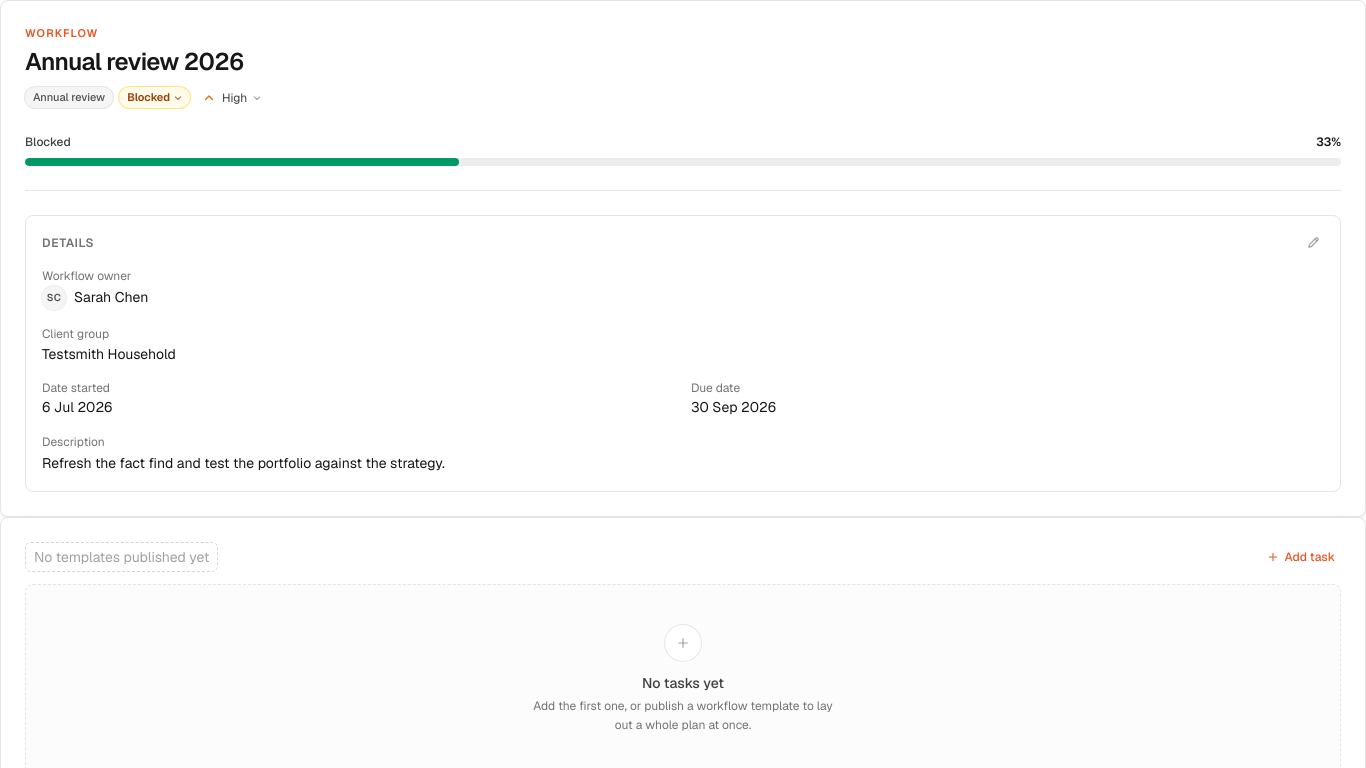
Test: the workflow detail page › the pencil makes owner, due date and description editable — but not the started date
What coordinates should you click on to do the following:
click the button named "Edit details"
I would click on:
 (1313, 242)
Its box is x1=1302 y1=232 x2=1324 y2=254.
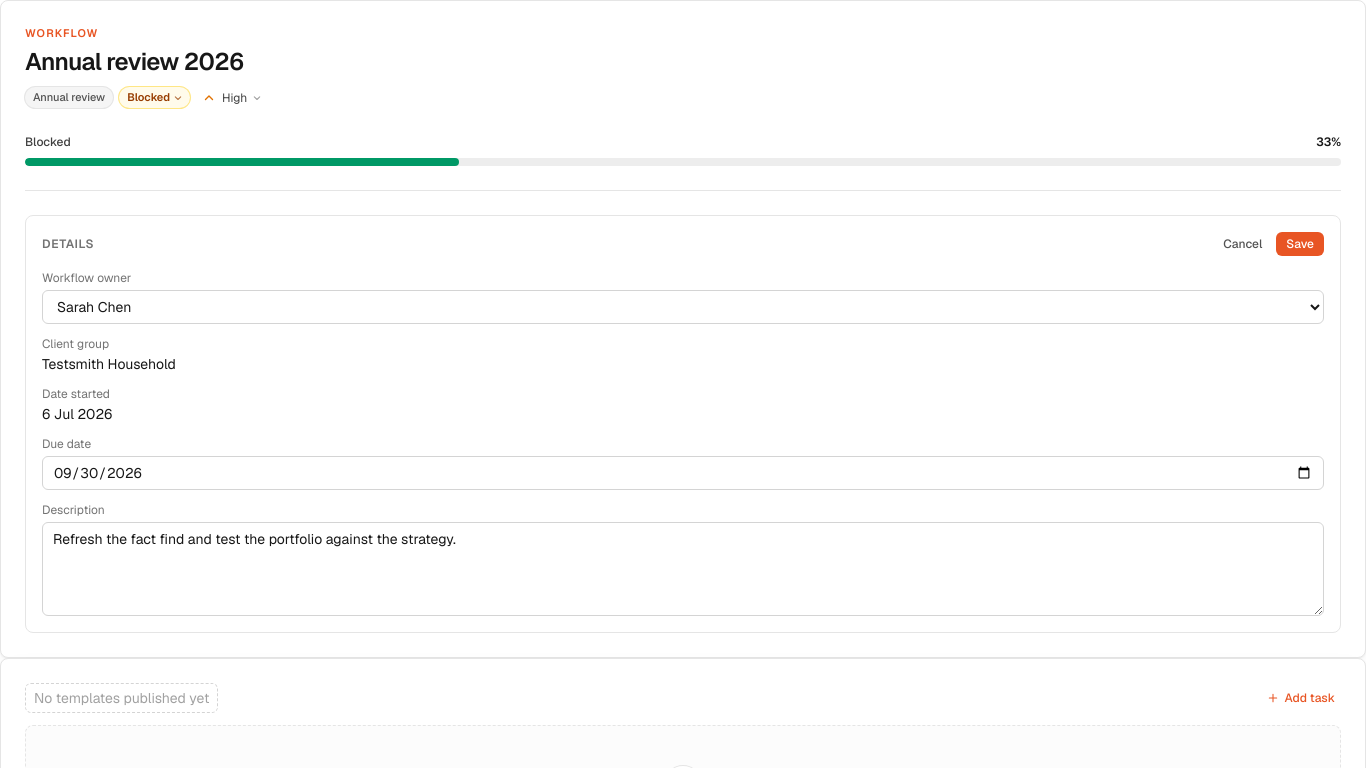
Expected: the text "6 Jul 2026" is shown, x1=42 y1=404 x2=112 y2=422
Now the dropdown labelled "Workflow owner" shows "Sarah Chen", box x1=42 y1=290 x2=1324 y2=324
Now the date field labelled "Due date" holds "2026-09-30", box x1=42 y1=456 x2=1324 y2=490
